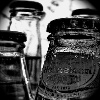beer: (45, 22, 100, 96)
